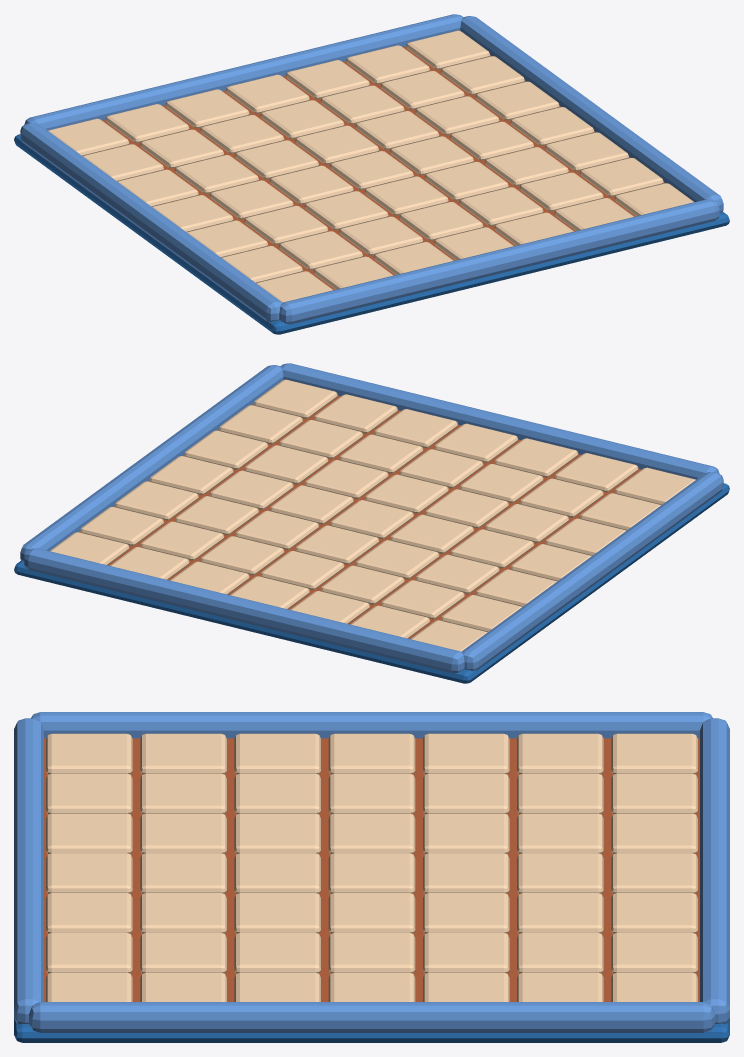
The model's file is PR3D_Board_7x7.fbx.
The picture shows the model from 3 angles, top to bottom: view 1: azimuth 30°, elevation 25°; view 2: azimuth 150°, elevation 25°; view 3: azimuth 270°, elevation 25°; orthographic projection. The views are drawn at different scales.
Parts seen in each view (by area): view 1: Visual_FrameBottom, Visual_FrameLeft, Visual_FrameTop, Visual_FrameRight, Visual_TrayBase, Visual_GroutBed, Visual_Tile_r06_c05, Visual_Tile_r02_c05, Visual_Tile_r03_c03, Visual_Tile_r03_c04, Visual_Tile_r03_c07, Visual_Tile_r04_c06 (+43 smaller); view 2: Visual_FrameTop, Visual_FrameLeft, Visual_FrameBottom, Visual_FrameRight, Visual_TrayBase, Visual_GroutBed, Visual_Tile_r02_c05, Visual_Tile_r01_c02, Visual_Tile_r01_c03, Visual_Tile_r01_c06, Visual_Tile_r02_c07, Visual_Tile_r03_c03 (+43 smaller); view 3: Visual_FrameRight, Visual_FrameLeft, Visual_GroutBed, Visual_FrameBottom, Visual_FrameTop, Visual_TrayBase, Visual_Tile_r04_c02, Visual_Tile_r04_c01, Visual_Tile_r04_c06, Visual_Tile_r02_c01, Visual_Tile_r06_c01, Visual_Tile_r03_c02 (+43 smaller).
Part boxes in pixels (bbox=[...]): Visual_FrameBottom: bbox=[279, 199, 719, 324]; Visual_FrameLeft: bbox=[20, 123, 282, 322]; Visual_FrameTop: bbox=[24, 14, 463, 130]; Visual_FrameRight: bbox=[460, 16, 723, 212]; Visual_TrayBase: bbox=[14, 134, 729, 334]; Visual_GroutBed: bbox=[102, 46, 664, 289]; Visual_Tile_r06_c05: bbox=[320, 85, 404, 124]; Visual_Tile_r02_c05: bbox=[459, 187, 543, 226]; Visual_Tile_r03_c03: bbox=[304, 191, 388, 230]; Visual_Tile_r03_c04: bbox=[365, 176, 448, 215]; Visual_Tile_r03_c07: bbox=[545, 132, 628, 171]; Visual_Tile_r04_c06: bbox=[450, 121, 534, 160]; Visual_FrameTop: bbox=[24, 548, 464, 673]; Visual_FrameLeft: bbox=[461, 472, 723, 671]; Visual_FrameBottom: bbox=[280, 363, 719, 479]; Visual_FrameRight: bbox=[20, 365, 283, 561]; Visual_TrayBase: bbox=[14, 483, 729, 683]; Visual_GroutBed: bbox=[79, 395, 641, 638]; Visual_Tile_r02_c05: bbox=[339, 434, 423, 473]; Visual_Tile_r01_c02: bbox=[554, 453, 638, 492]; Visual_Tile_r01_c03: bbox=[494, 438, 578, 477]; Visual_Tile_r01_c06: bbox=[314, 394, 397, 433]; Visual_Tile_r02_c07: bbox=[219, 405, 302, 444]; Visual_Tile_r03_c03: bbox=[425, 489, 508, 528]; Visual_FrameRight: bbox=[29, 1002, 714, 1032]; Visual_FrameLeft: bbox=[31, 712, 712, 738]; Visual_GroutBed: bbox=[44, 738, 699, 1001]; Visual_FrameBottom: bbox=[14, 718, 43, 1024]; Visual_FrameTop: bbox=[700, 718, 729, 1024]; Visual_TrayBase: bbox=[14, 1018, 729, 1042]; Visual_Tile_r04_c02: bbox=[328, 773, 415, 814]; Visual_Tile_r04_c01: bbox=[328, 733, 415, 774]; Visual_Tile_r04_c06: bbox=[328, 932, 415, 973]; Visual_Tile_r02_c01: bbox=[140, 733, 226, 774]; Visual_Tile_r06_c01: bbox=[517, 733, 603, 774]; Visual_Tile_r03_c02: bbox=[234, 773, 320, 814].
Bounding box in the file's own units: 7.6 × 0.42 × 7.6.
